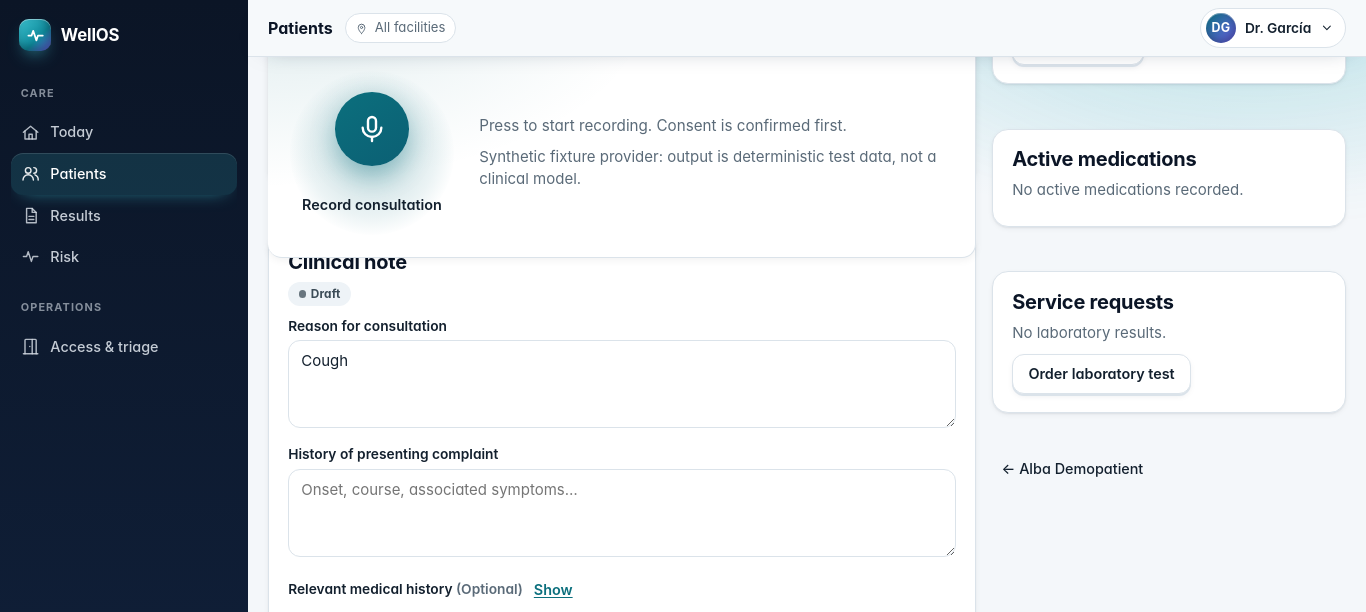
Test: encounter documentation workspace › surfaces a version conflict instead of overwriting
(page scrolled)
Type " and fever" into the text box labelled "Reason for consultation" at (622, 384), box [288,340,956,428]
(page scrolled)
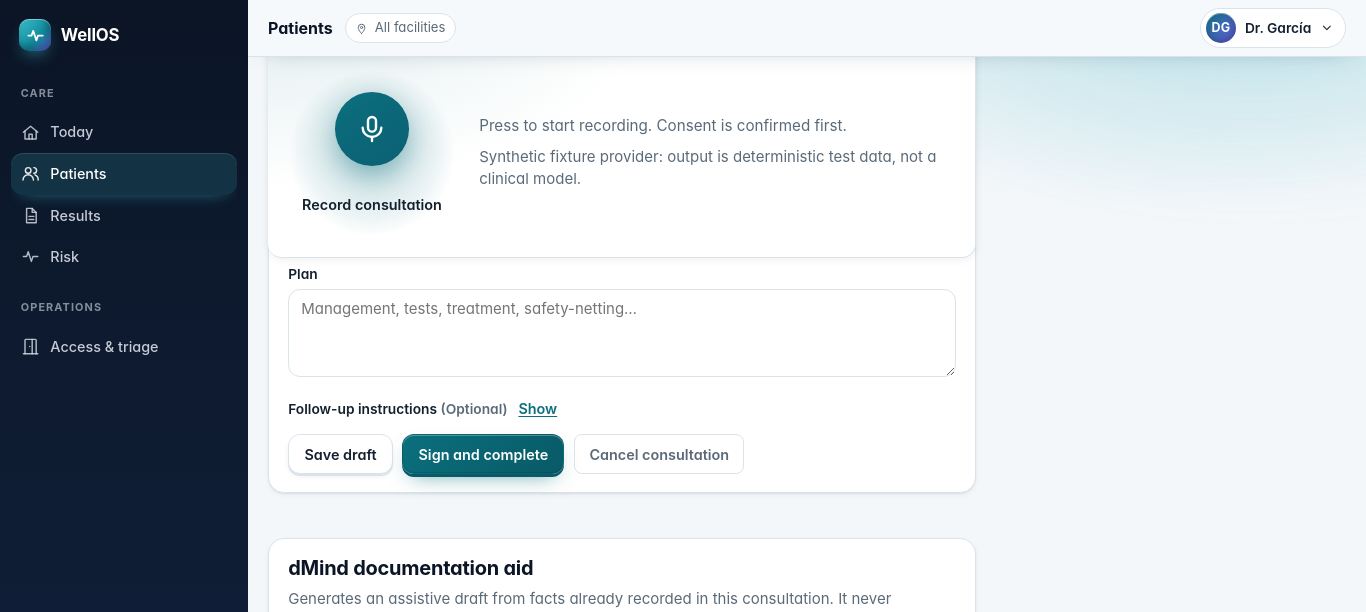
Click the button "Save draft" at (340, 454), box [288,434,393,474]
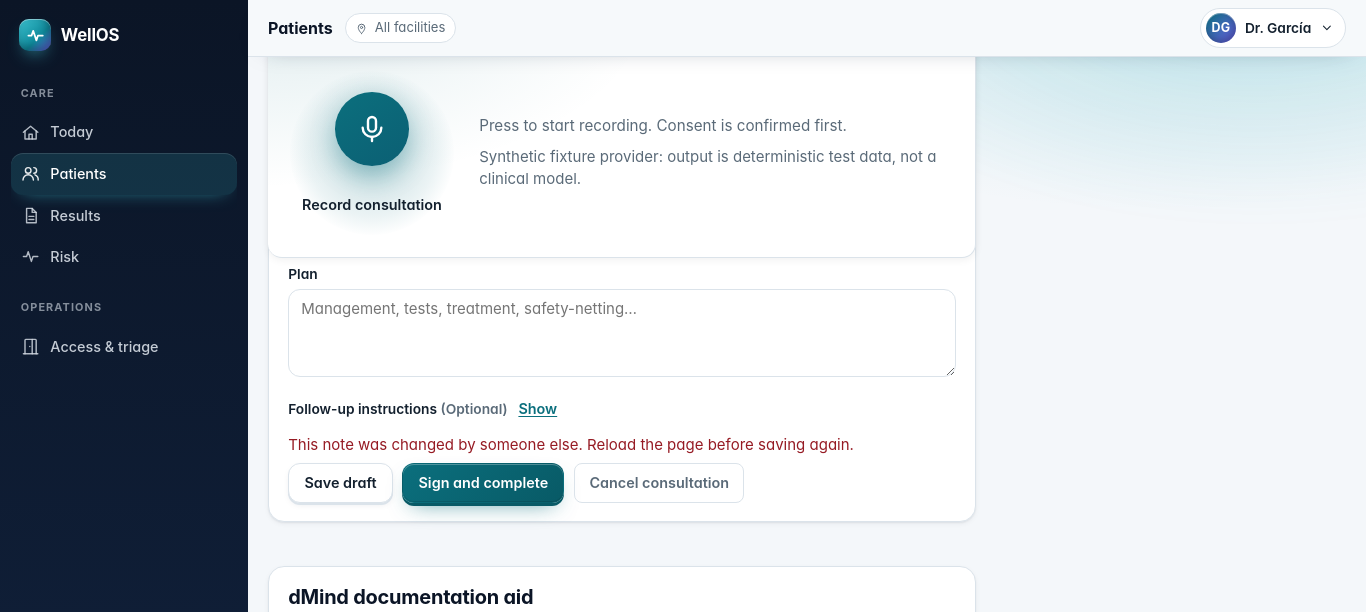
Expected: the text "This note was changed by someone else. Reload the page before saving again." is shown, [288,435,854,454]
